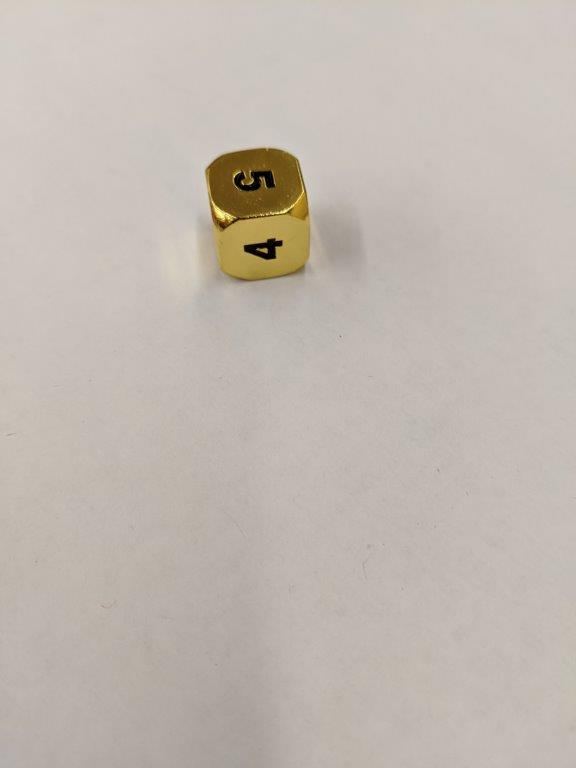d6-5: (204, 146, 315, 284)
